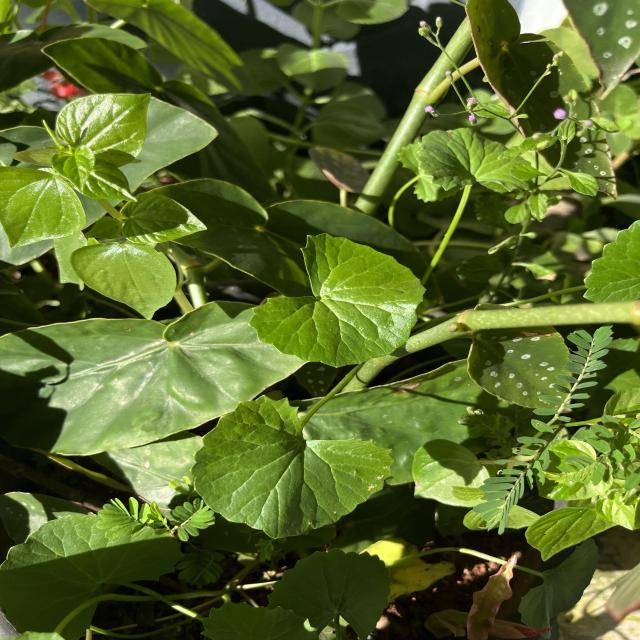Centella asiatica: (184, 391, 398, 543), (244, 228, 431, 372)
